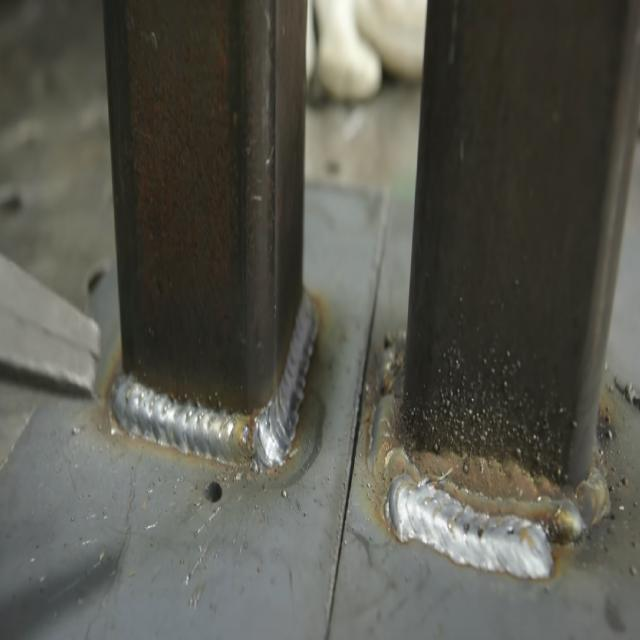Good Weld: (120, 382, 280, 477), (392, 490, 538, 578)
